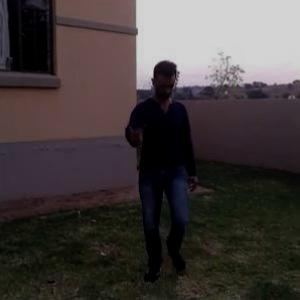takeoff-hand: (123, 115, 148, 147)
